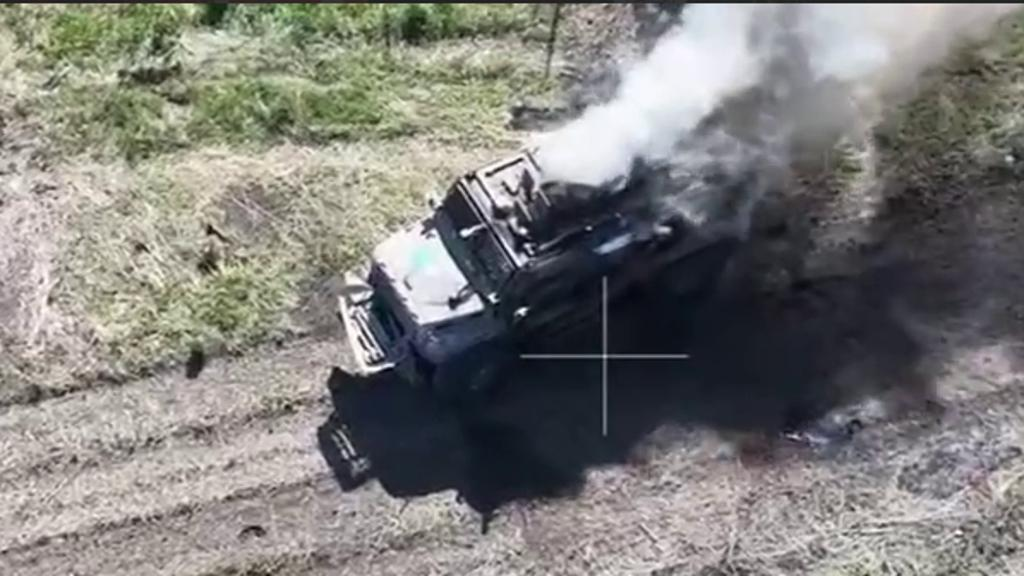CAR: (334, 121, 742, 382)
